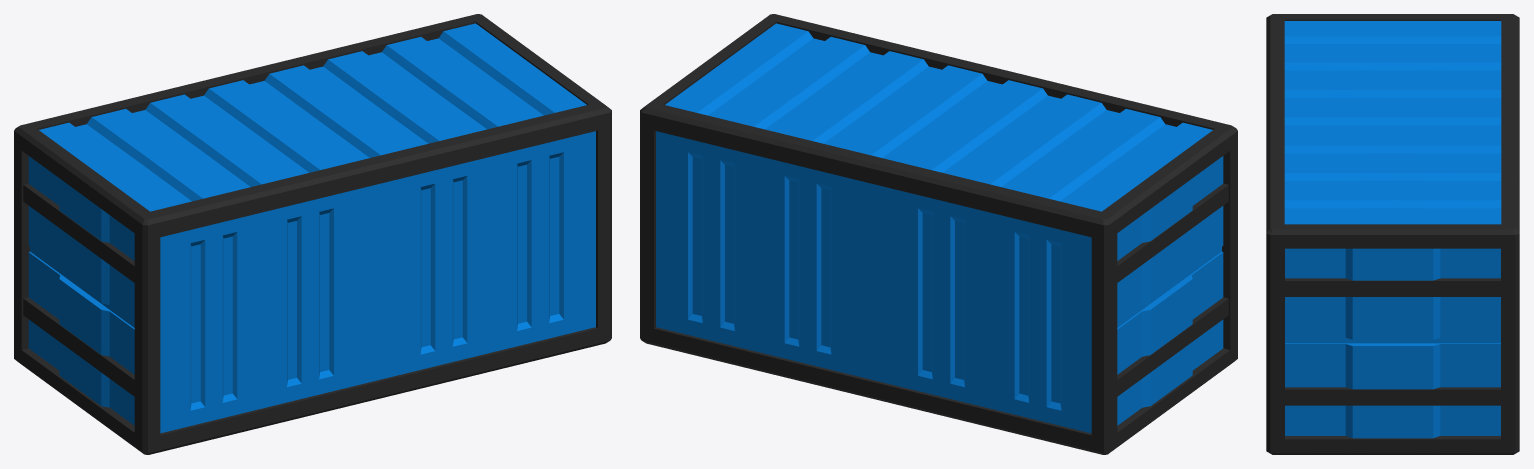
File: Container Blue.fbx
The picture shows the model from 3 angles, left to right: view 1: azimuth 30°, elevation 25°; view 2: azimuth 150°, elevation 25°; view 3: azimuth 270°, elevation 25°; orthographic projection. The views are drawn at different scales.
Visible parts, largest first — view 1: Big_Container_Long.018; view 2: Big_Container_Long.018; view 3: Big_Container_Long.018.
Part boxes in pixels (<box>): Big_Container_Long.018: <box>14,14,611,454</box>; Big_Container_Long.018: <box>640,14,1237,454</box>; Big_Container_Long.018: <box>1266,14,1519,454</box>.
Bounding box in the file's own units: 744 × 357 × 364.
